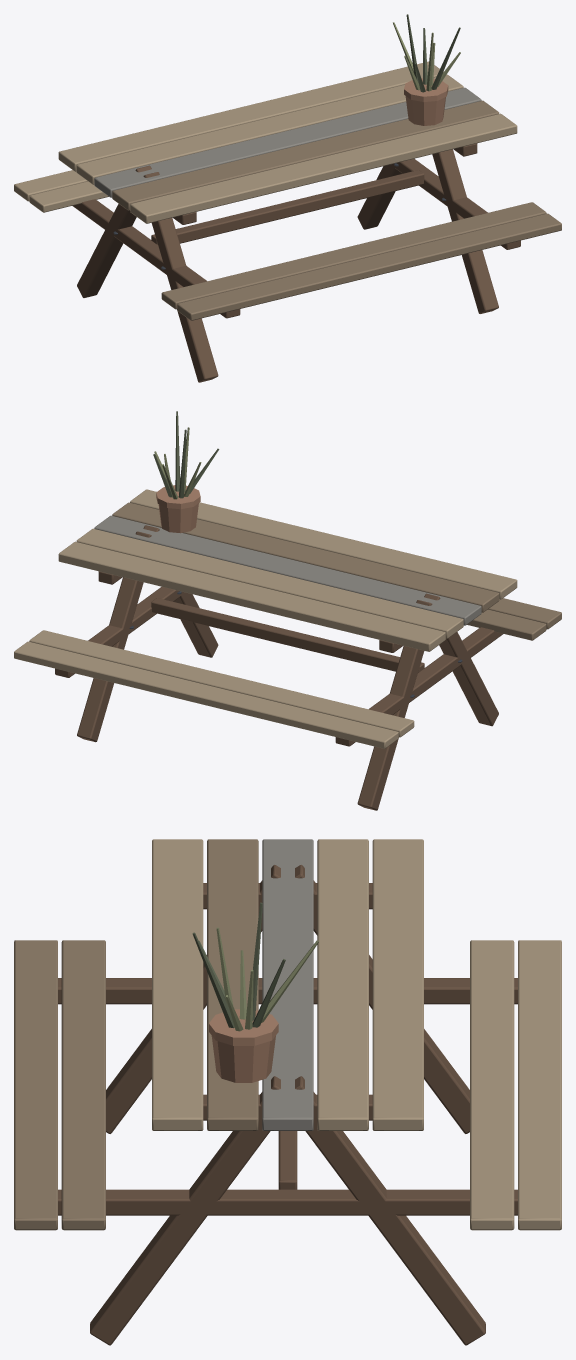
The model's file is picnic_table.fbx.
3 views of the same model, one above another, from view 1: azimuth 30°, elevation 25°; view 2: azimuth 150°, elevation 25°; view 3: azimuth 270°, elevation 25° (orthographic). The views are drawn at different scales.
Parts seen in each view (by area): view 1: picnic_table; view 2: picnic_table; view 3: picnic_table.
Part boxes in pixels (x1,y1,x2,y2): picnic_table: (14,14,561,382); picnic_table: (14,411,561,810); picnic_table: (14,839,561,1345).
Bounding box in the file's own units: 1.8 × 1.49 × 1.25.
